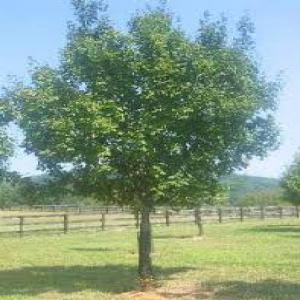Tree: (14, 3, 291, 282)
